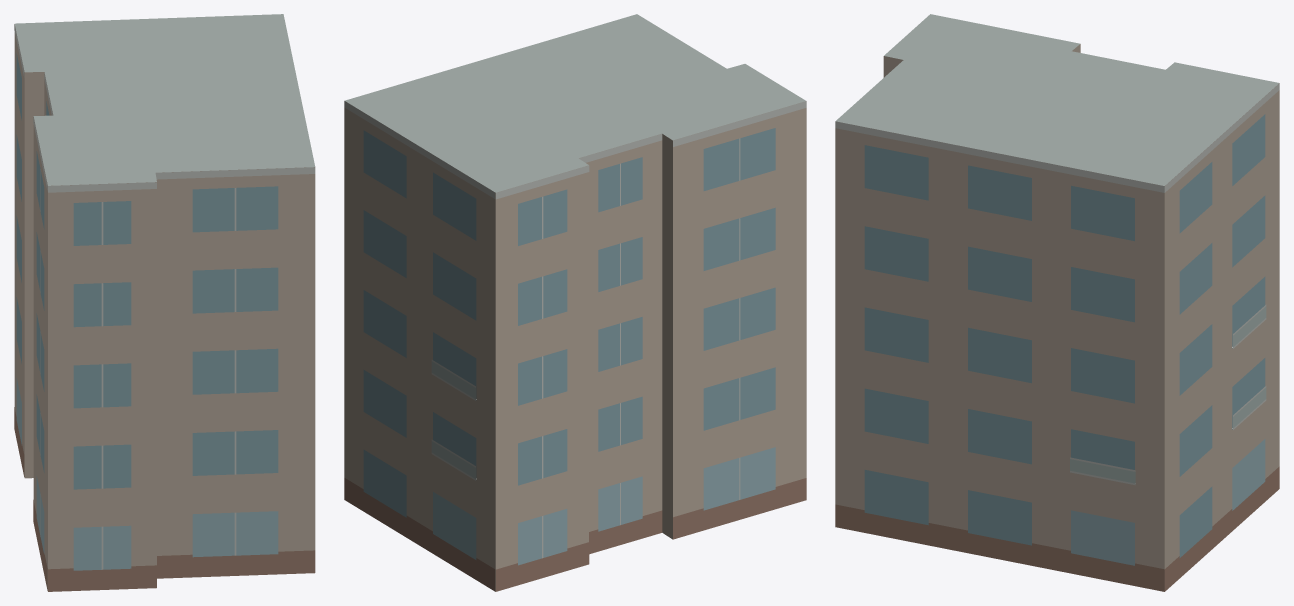
File: survey-upis-32689489.glb
The picture shows the model from 3 angles, left to right: view 1: azimuth 30°, elevation 25°; view 2: azimuth 150°, elevation 25°; view 3: azimuth 270°, elevation 25°; orthographic projection.
Visible parts, largest first — view 1: survey-upis-32689489.tmp; view 2: survey-upis-32689489.tmp; view 3: survey-upis-32689489.tmp.
Boxes of the visible parts, left/top/right/bottom form: survey-upis-32689489.tmp: left=14, top=14, right=315, bottom=591; survey-upis-32689489.tmp: left=344, top=14, right=806, bottom=591; survey-upis-32689489.tmp: left=835, top=14, right=1279, bottom=591.
Bounding box in the file's own units: 13.11 × 14.4 × 14.3.
